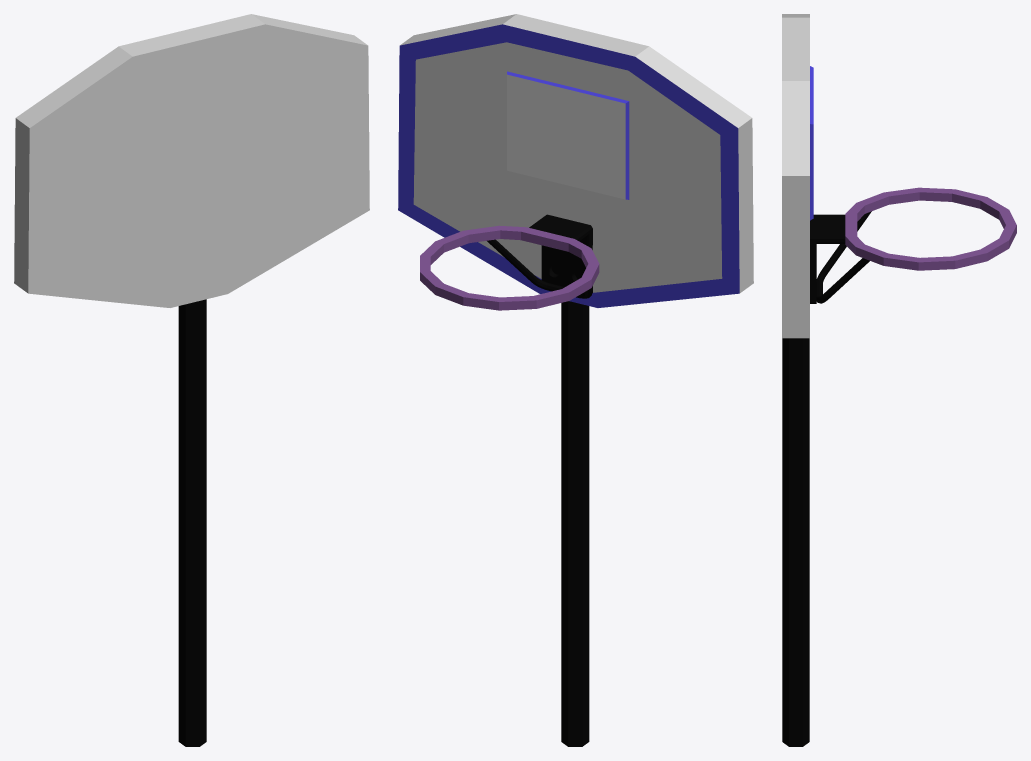
Rendered from Baasketball Korb.fbx.
The picture shows the model from 3 angles, left to right: view 1: azimuth 30°, elevation 25°; view 2: azimuth 150°, elevation 25°; view 3: azimuth 270°, elevation 25°; orthographic projection. The views are drawn at different scales.
Parts seen in each view (by area): view 1: Brett, Stab; view 2: Brett, Brett Rand, Stab, Fläche, Ring, Halterung, Stab Halterung; view 3: Stab, Brett, Ring, Halterung, Stab Halterung, Brett Rand.
Boxes of the visible parts, box(x1,y1,x2,y2) form: Brett: box(14, 14, 369, 307); Stab: box(178, 299, 206, 746); Brett: box(400, 14, 753, 293); Brett Rand: box(398, 24, 739, 307); Stab: box(561, 301, 589, 746); Fläche: box(507, 74, 625, 199); Ring: box(420, 225, 599, 310); Halterung: box(529, 214, 592, 292); Stab Halterung: box(487, 239, 592, 298); Stab: box(782, 338, 809, 746); Brett: box(782, 14, 809, 338); Ring: box(845, 187, 1016, 270); Halterung: box(810, 214, 845, 303); Stab Halterung: box(816, 211, 871, 303); Brett Rand: box(810, 66, 813, 220).
Bounding box in the file's own units: 494 × 978 × 300.
